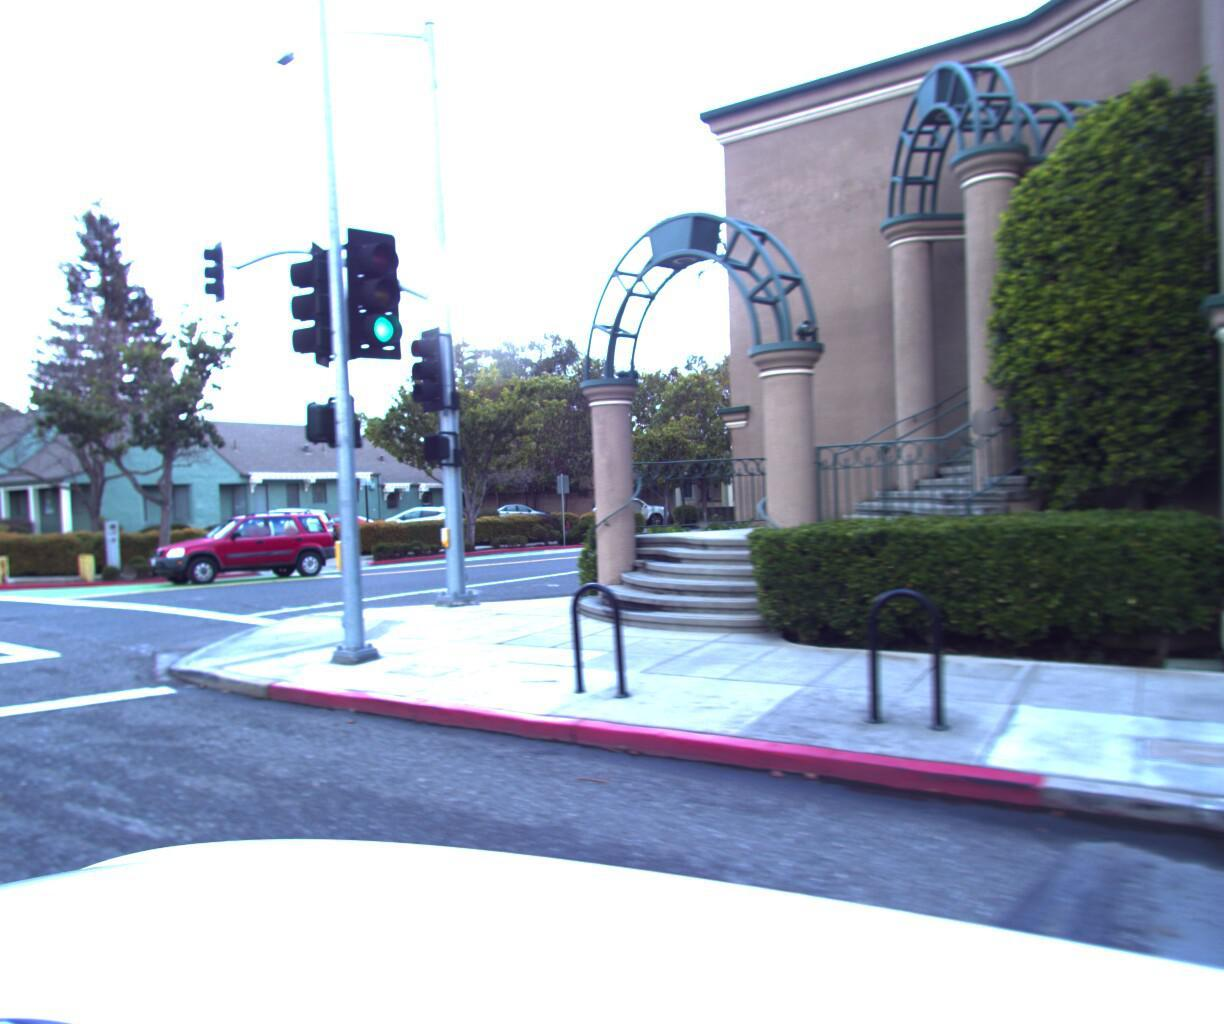car: (140, 506, 341, 589), (218, 501, 336, 550), (282, 507, 391, 544), (368, 501, 464, 537), (586, 490, 673, 526), (495, 496, 561, 525)
